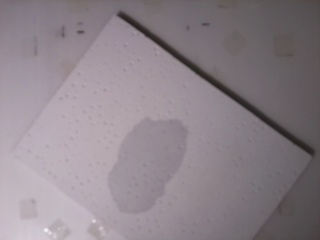Water_detected: (124, 131, 187, 201)
